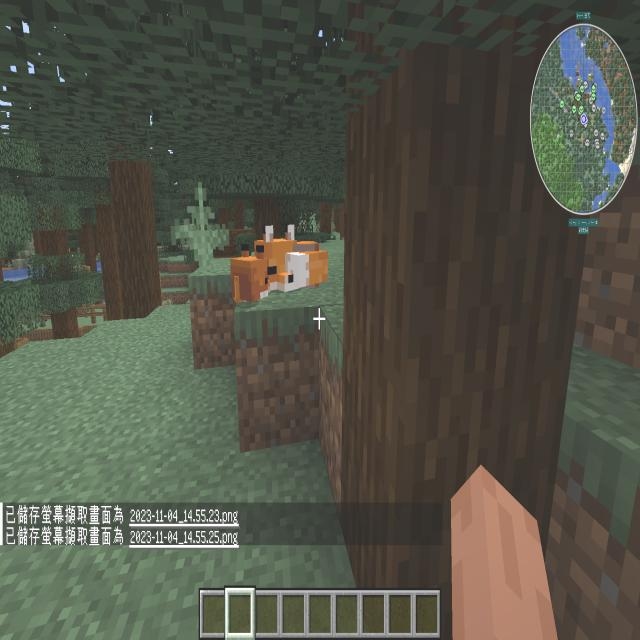Fox: (244, 210, 338, 310), (220, 237, 274, 321)
